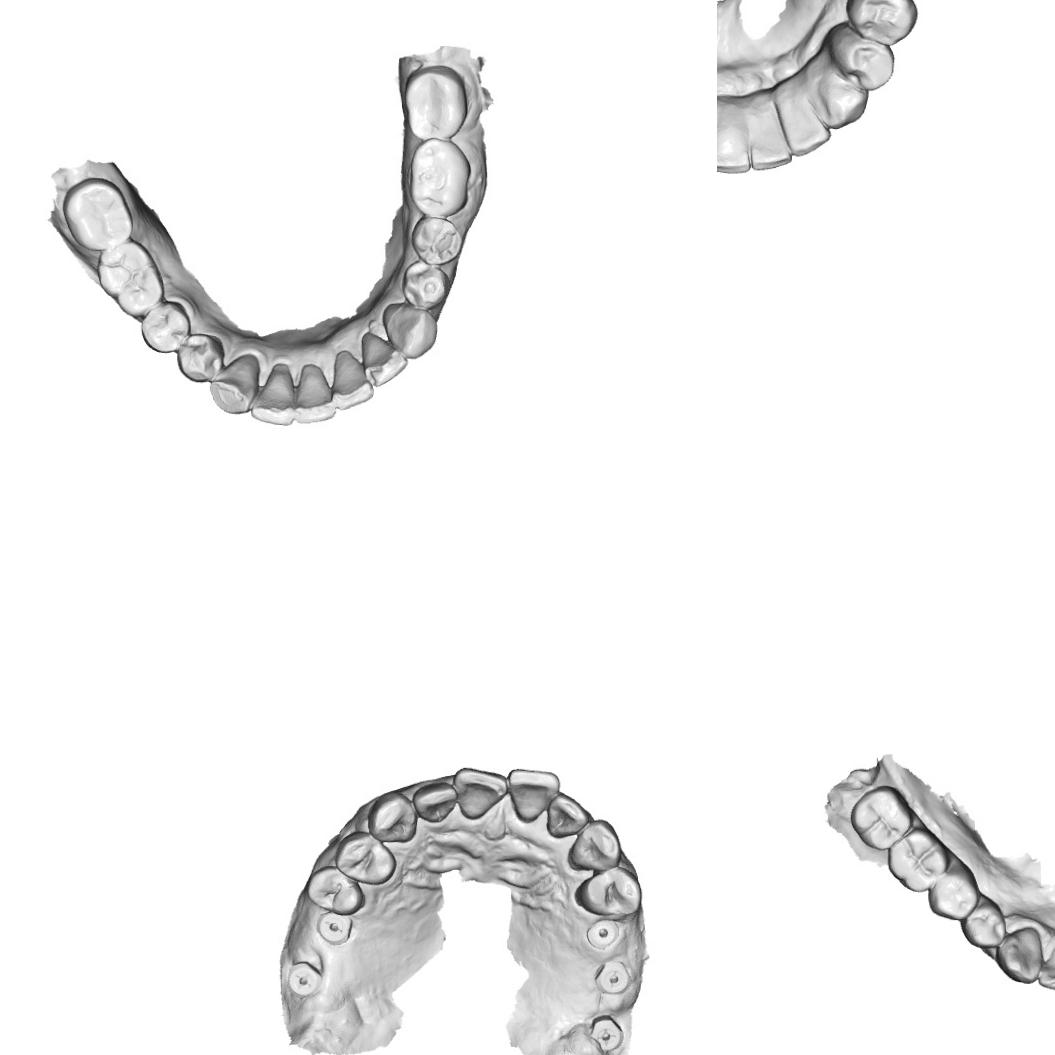canine: (809, 64, 870, 133), (380, 303, 442, 360), (208, 352, 262, 416), (996, 925, 1044, 987), (366, 789, 418, 844), (544, 791, 590, 838)
implant: (586, 918, 620, 950)
implant_minus: (315, 910, 354, 947), (592, 960, 632, 996)
implant_plus: (588, 1014, 625, 1054), (285, 960, 323, 997)
incisor: (247, 361, 302, 427), (744, 101, 795, 172), (782, 94, 836, 158), (452, 765, 508, 821), (507, 766, 561, 824), (293, 360, 340, 426), (358, 331, 410, 388), (330, 348, 376, 412), (717, 109, 755, 177), (411, 781, 457, 824), (1037, 940, 1055, 995)
molar: (59, 175, 135, 254), (93, 238, 164, 321), (404, 138, 474, 218), (402, 64, 467, 142), (849, 784, 915, 854), (886, 826, 950, 895)
premolar: (829, 31, 895, 94), (333, 829, 398, 886), (845, 0, 920, 48), (576, 866, 644, 918), (138, 298, 193, 355), (304, 865, 364, 916), (408, 215, 464, 267), (173, 330, 226, 384), (568, 818, 623, 870), (399, 260, 451, 313), (925, 871, 979, 922), (960, 898, 1007, 950)
